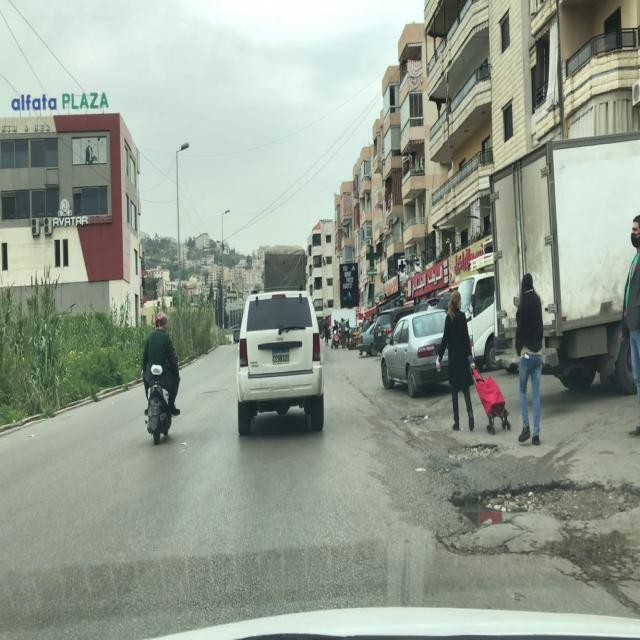Pothole: (447, 478, 639, 533), (446, 442, 499, 462), (403, 412, 428, 423), (201, 387, 226, 396)
